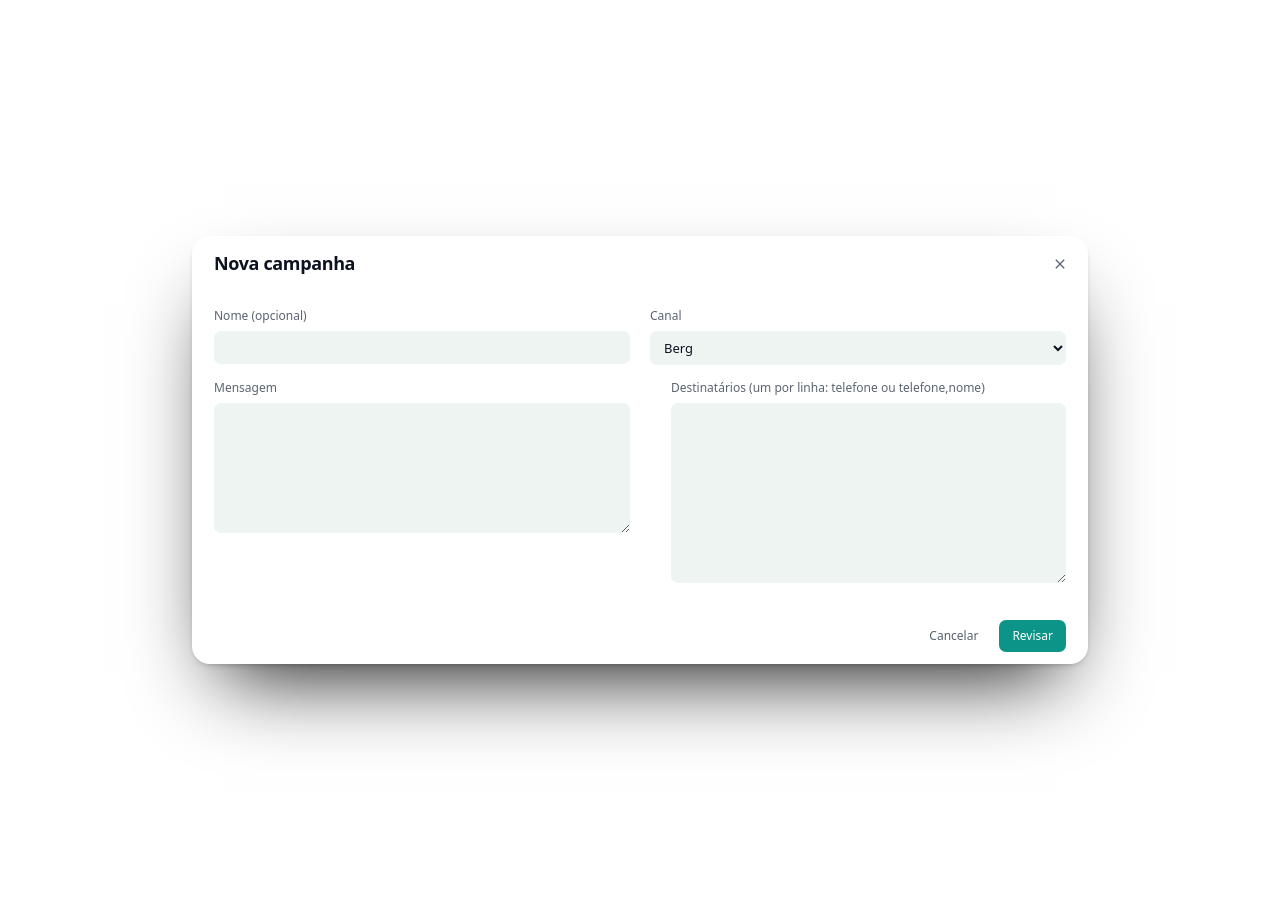
Test: CreateCampaignModal › mostra erro quando a lista de destinatários está vazia
Type "Oi" into the text box labelled "Mensagem" at (422, 468), box [214,403,630,533]
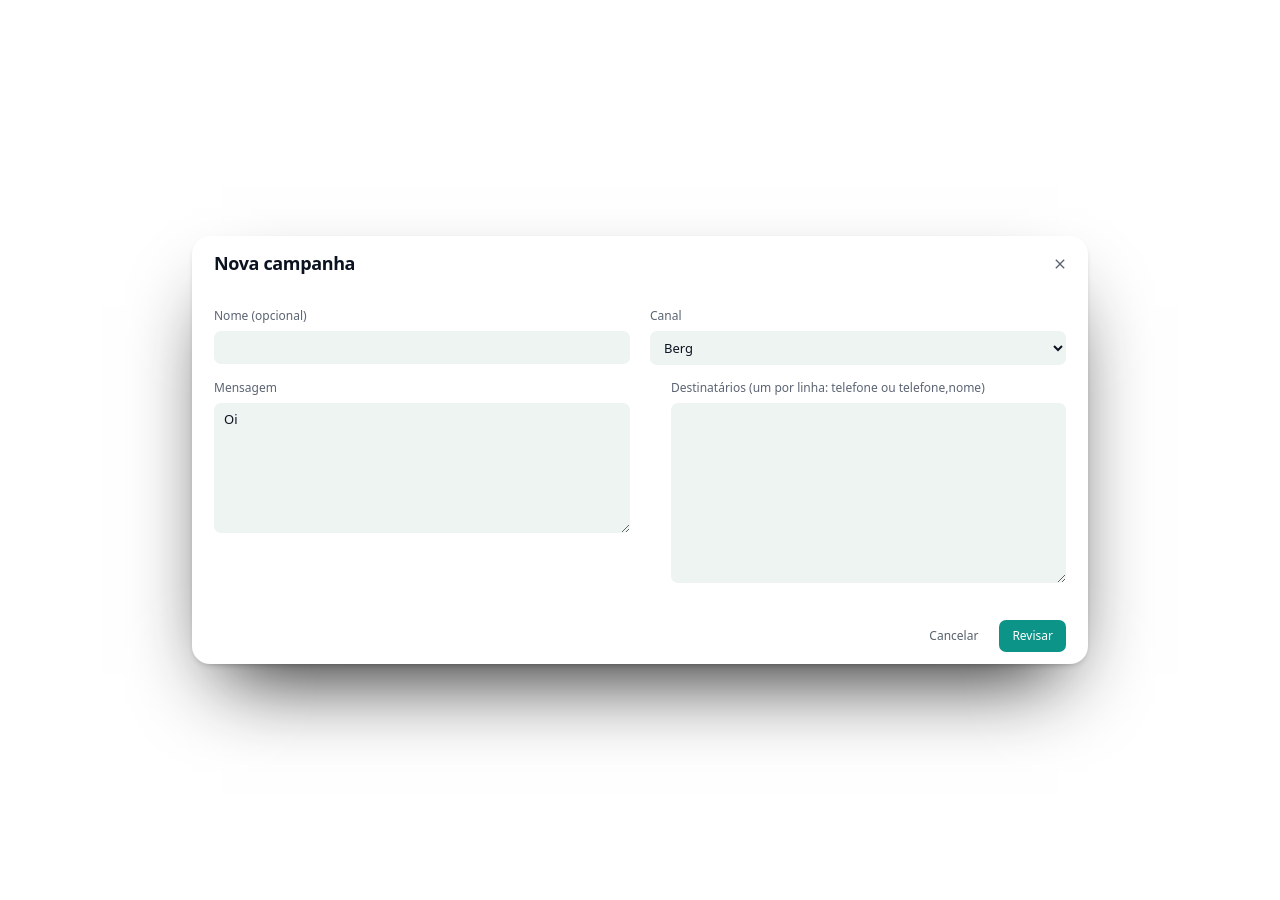
Click the button "Revisar" at (1033, 636), box [999,620,1066,652]
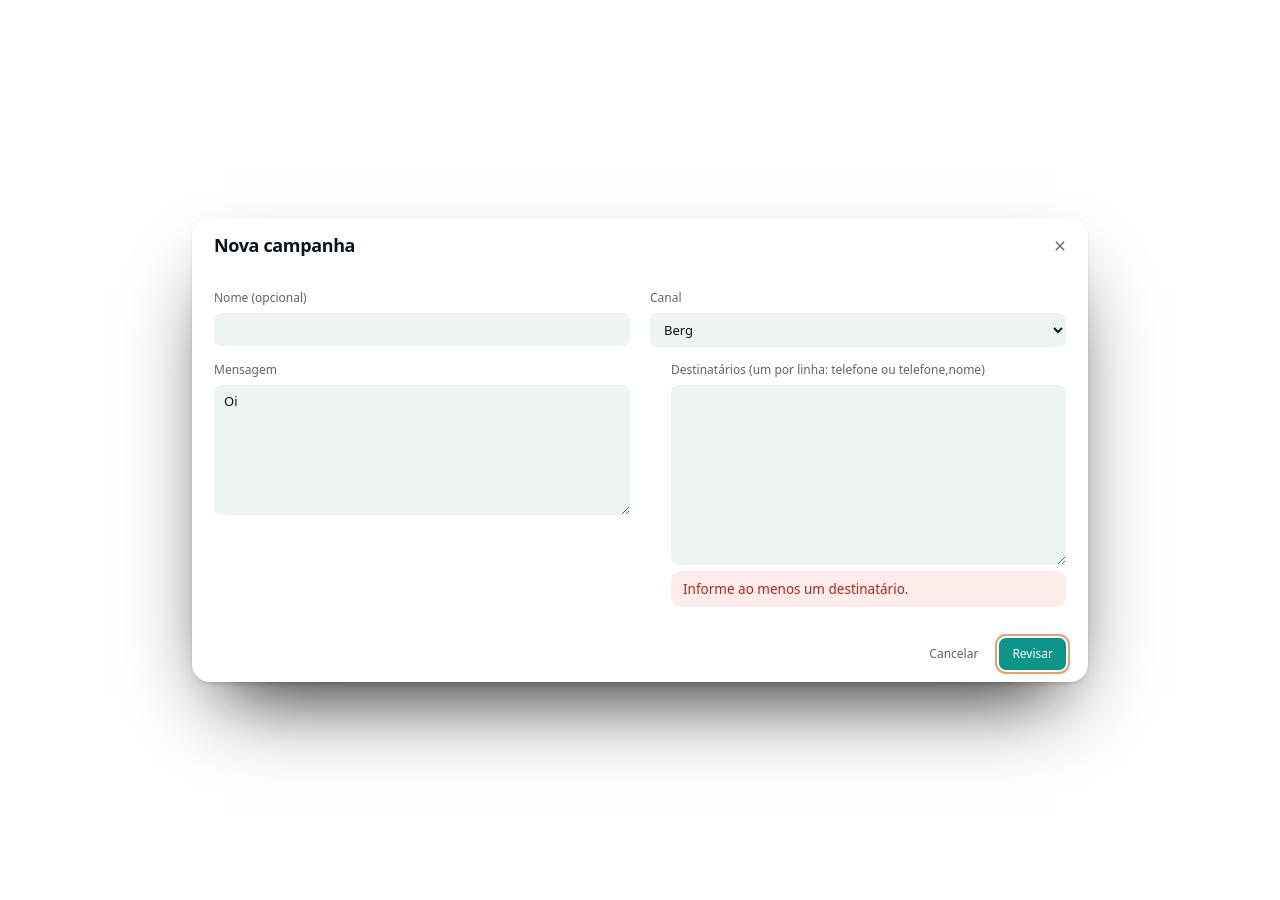
Check: the text "Informe ao menos um destinatário." is shown, box [671,571,1066,607]
